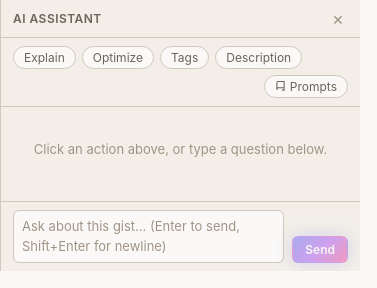
Test case: AIPanel › shows streaming indicator while waiting for ai-done
Click the button "Explain": (44, 58) left=13, top=46, right=76, bottom=69
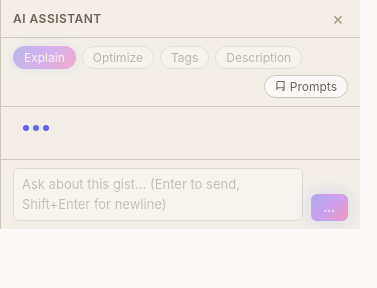
Check: the element with class "ai-dots" is shown, box left=23, top=125, right=49, bottom=131
